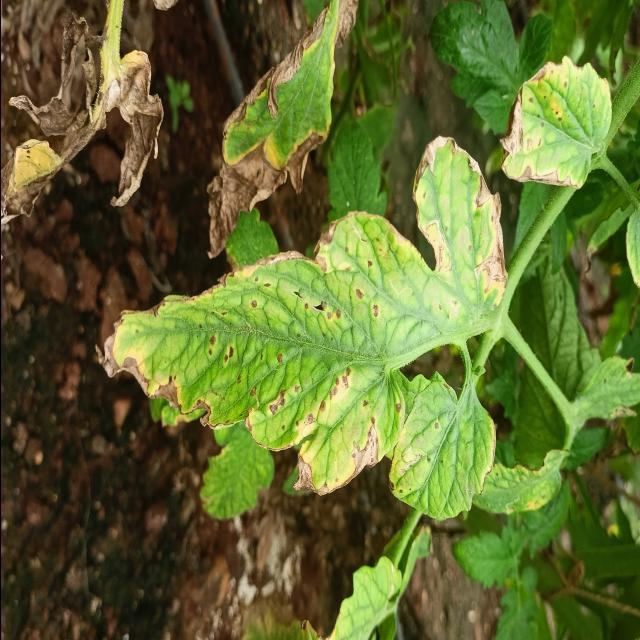Tomato mosaic virus leaf: (88, 205, 408, 499), (0, 11, 164, 230), (205, 8, 339, 260), (409, 123, 510, 334), (492, 49, 614, 191), (390, 374, 490, 526)
